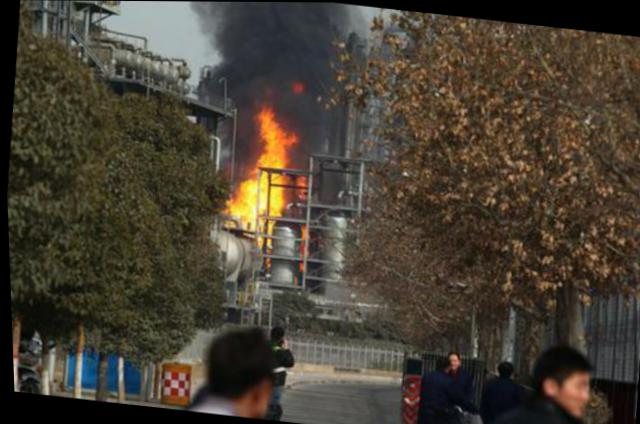fire: (253, 101, 290, 164), (223, 177, 257, 222), (264, 184, 282, 213), (254, 169, 267, 209), (268, 169, 285, 181)
